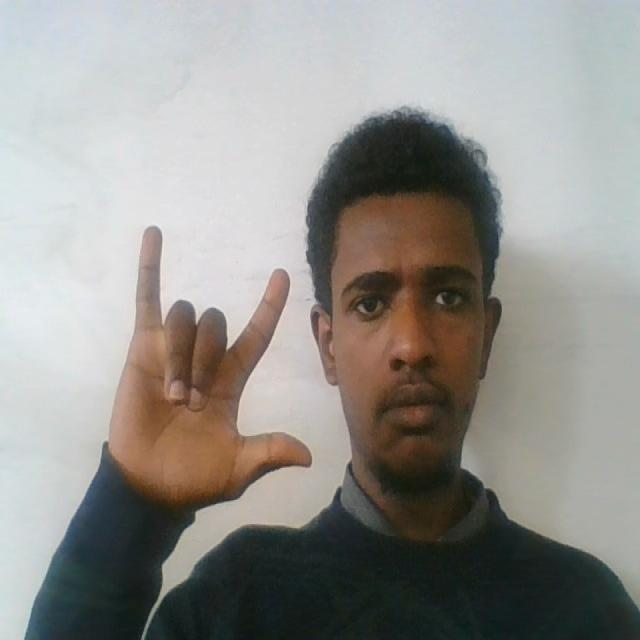iloveyou: (105, 218, 318, 517)
